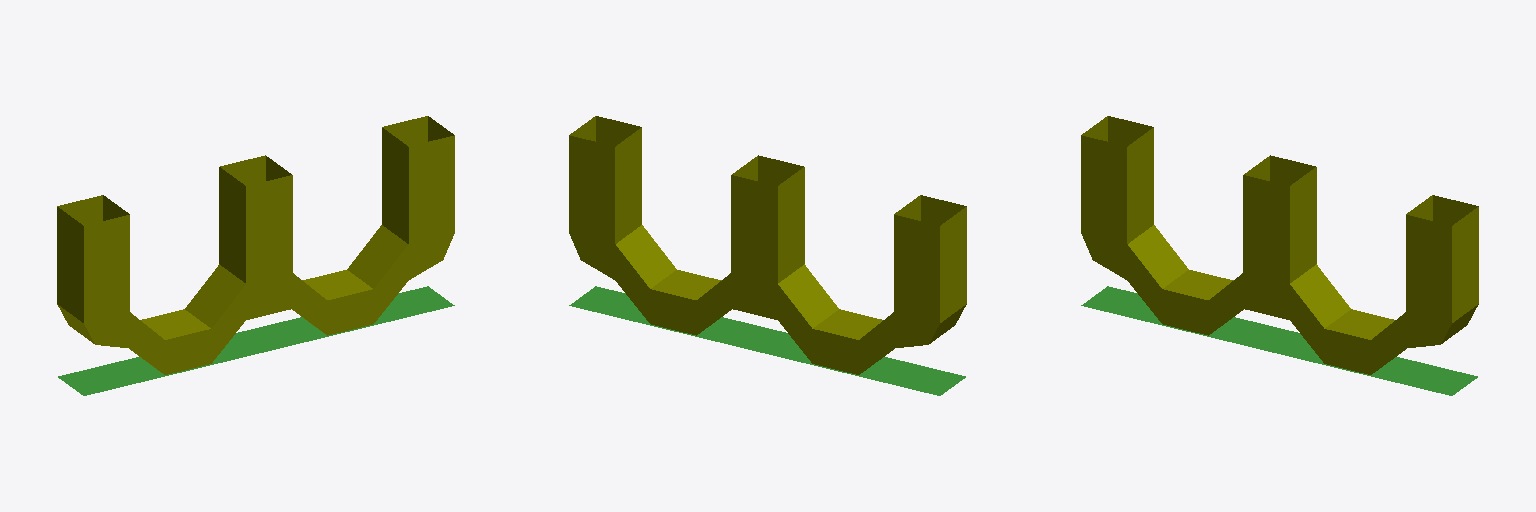
Rendered from greece01.obj.
The picture shows the model from 3 angles: view 1: azimuth 30°, elevation 25°; view 2: azimuth 150°, elevation 25°; view 3: azimuth 330°, elevation 25°; orthographic projection.
Visible parts, largest first — view 1: Cube.031_Cube.018; view 2: Cube.031_Cube.018; view 3: Cube.031_Cube.018.
Boxes of the visible parts, box(x1,y1,x2,y2) form: Cube.031_Cube.018: box(57, 116, 454, 395); Cube.031_Cube.018: box(569, 116, 966, 395); Cube.031_Cube.018: box(1081, 116, 1478, 395).
Size of the model in its own units: 320 by 141 by 40.